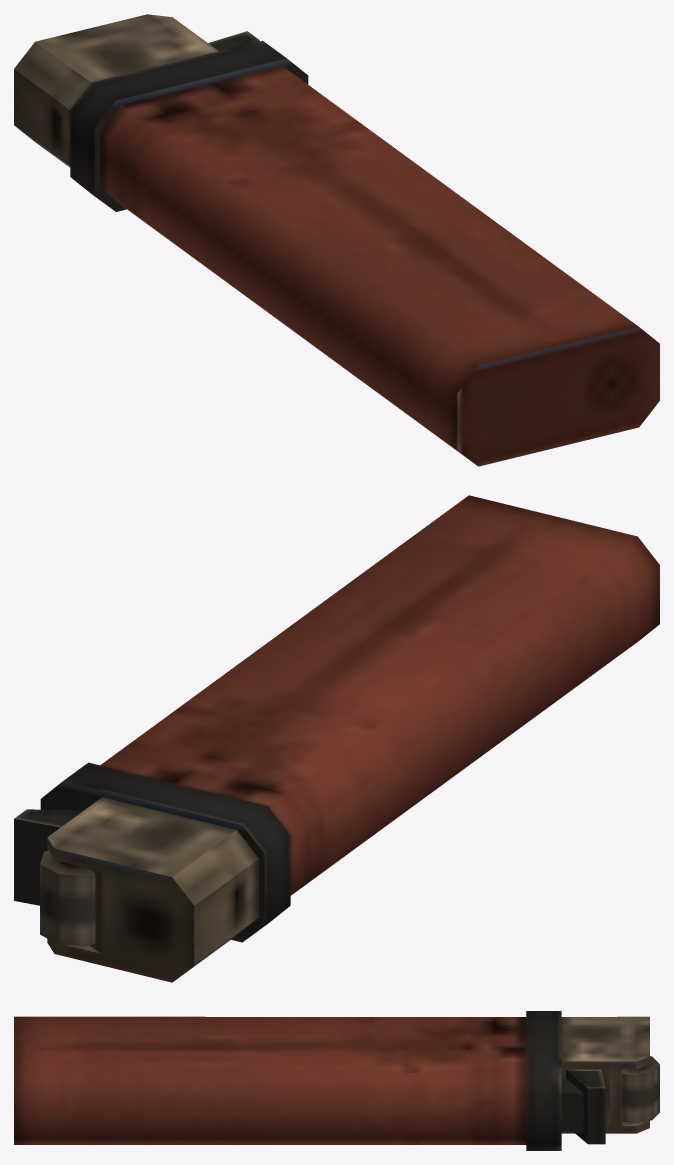
The model's file is lighter_mp_1.fbx.
3 views of the same model, one above another, from view 1: azimuth 30°, elevation 25°; view 2: azimuth 150°, elevation 25°; view 3: azimuth 270°, elevation 25° (orthographic). The views are drawn at different scales.
Visible parts, largest first — view 1: lighter_mp_1; view 2: lighter_mp_1; view 3: lighter_mp_1.
Part boxes in pixels (<box>): lighter_mp_1: <box>14,14,659,466</box>; lighter_mp_1: <box>14,495,659,982</box>; lighter_mp_1: <box>14,1011,659,1150</box>.
Size of the model in its own units: 0.04 by 0.02 by 0.1463.
1 material, 1 textured.
